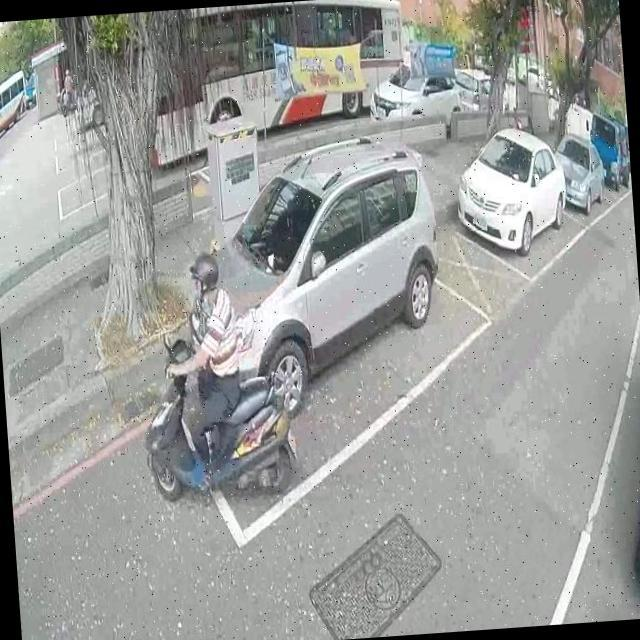person: (153, 240, 249, 488), (60, 62, 74, 112)
